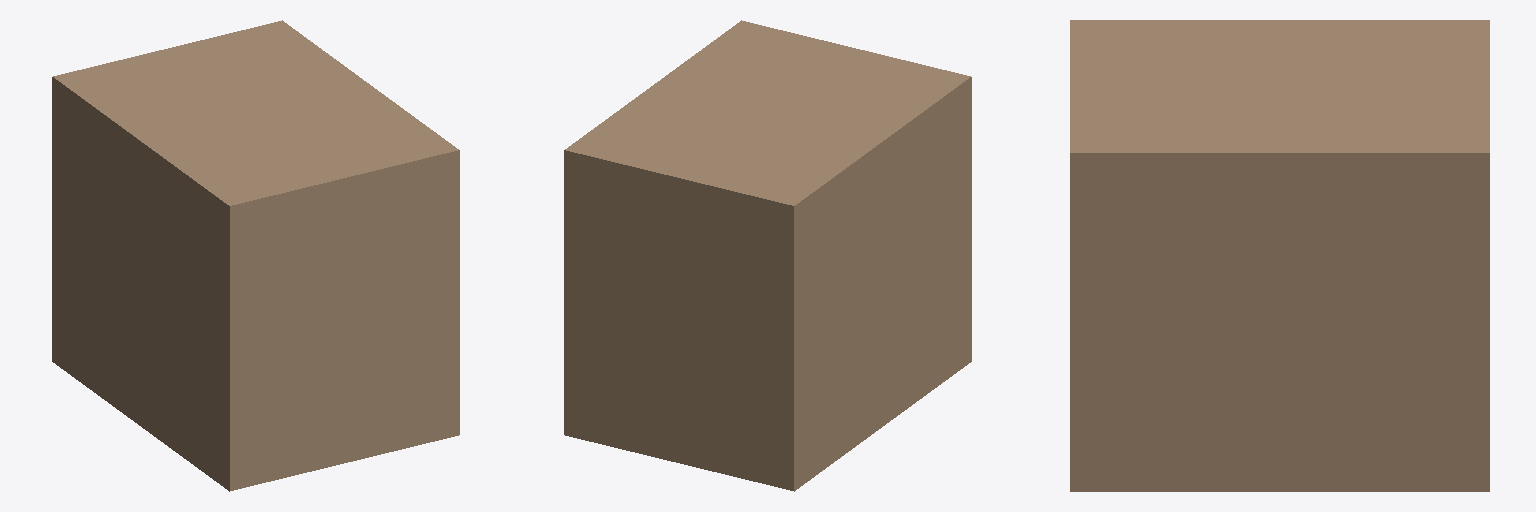
robot.urdf — box.urdf:
<?xml version="1.0" ?>
<robot name="box.urdf">
  <link name="baseLink">
    <contact>
      <lateral_friction value="1.0"/>
      <rolling_friction value="0.0001"/>
      <inertia_scaling value="3.0"/>
    </contact>
    <inertial>
      <origin rpy="0 0 0" xyz="0 0 0"/>
       <mass value="0.1"/>
       <inertia ixx="1" ixy="0" ixz="0" iyy="1" iyz="0" izz="1"/>
    </inertial>
    <visual>
      <origin rpy="0 0 0" xyz="0 0 0"/>
      <geometry>
        <!-- <box size="0.27 0.36 0.32"/> -->
        <mesh filename="box/box.obj" scale="0.27 0.36 0.32"/>
      </geometry>
      <material name="white">
        <color rgba="0.7 0.6 0.5 1"/>
      </material>
    </visual>
    <collision>
      <origin rpy="0 0 0" xyz="0 0 0"/>
      <geometry>
        <mesh filename="box/box.obj" scale="0.27 0.36 0.32"/>
	 	    <!-- <box size="0.27 0.36 0.32"/> -->
      </geometry>
    </collision>
  </link>
</robot>

--- Render facts (derived) ---
The picture shows the robot from 3 angles, left to right: view 1: azimuth 30°, elevation 25°; view 2: azimuth 150°, elevation 25°; view 3: azimuth 270°, elevation 25°; orthographic projection.
Robot: box.urdf — 1 links, 0 joints (none); root link baseLink; default pose: every joint at zero.
Visible links, largest first — view 1: baseLink; view 2: baseLink; view 3: baseLink.
Boxes of the visible links, x1,y1,x2,y2 form: baseLink: (52,20,459,491); baseLink: (564,20,971,491); baseLink: (1070,20,1489,491).
Bounding box of the posed robot: 0.27 × 0.36 × 0.32 m (x, y, z).
Meshes: 1 distinct files referenced, 1 mesh visuals loaded (1 OBJ).
